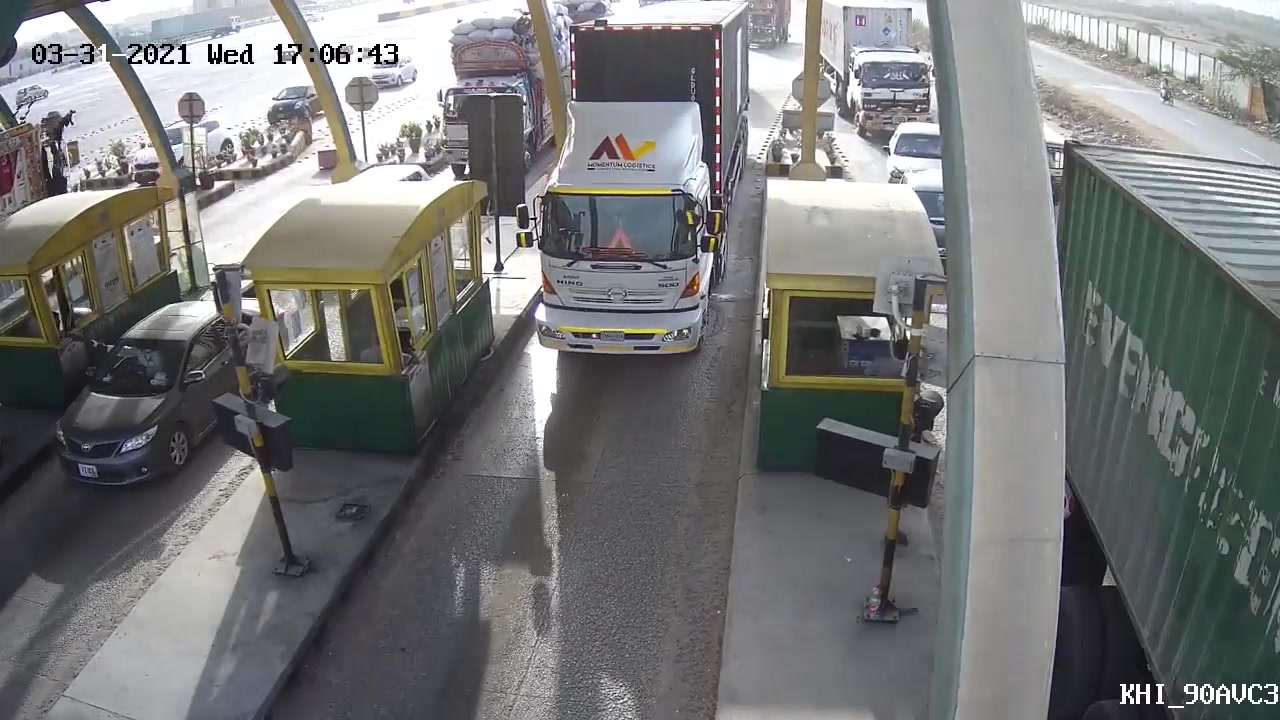F6: (513, 1, 757, 365)
